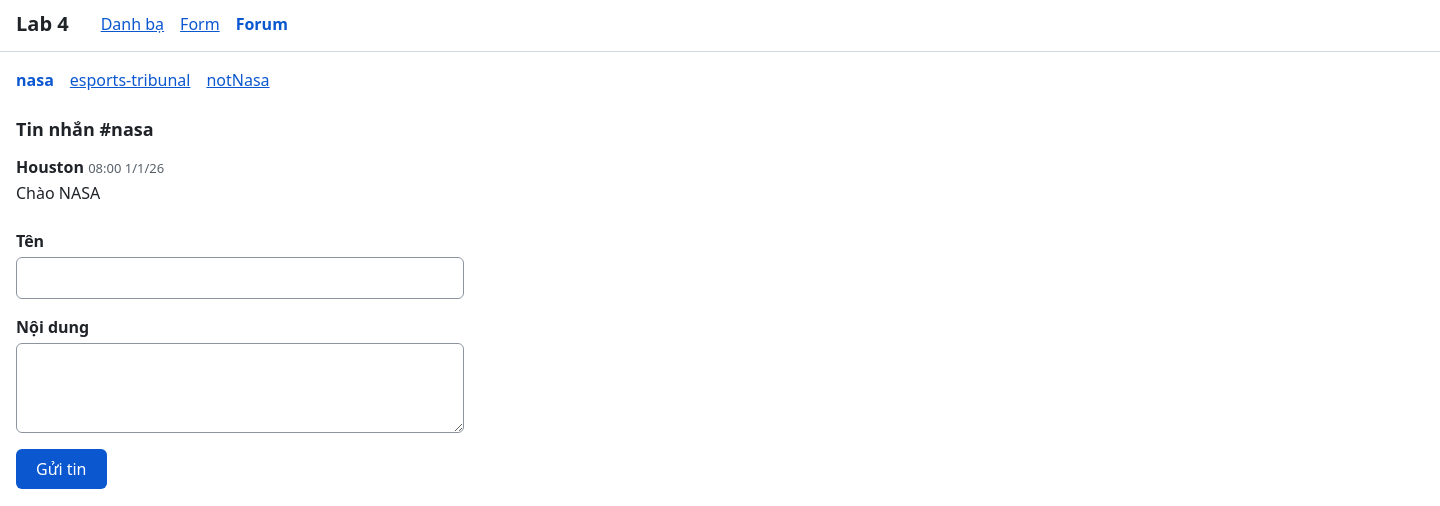
ForumPage › đổi kênh bằng NavLink → tải tin của kênh mới
Expected: the text "Chào NASA" is shown, [16,182,100,204]
Click the link "notNasa".
click(238, 80)  # box [206,68,270,92]
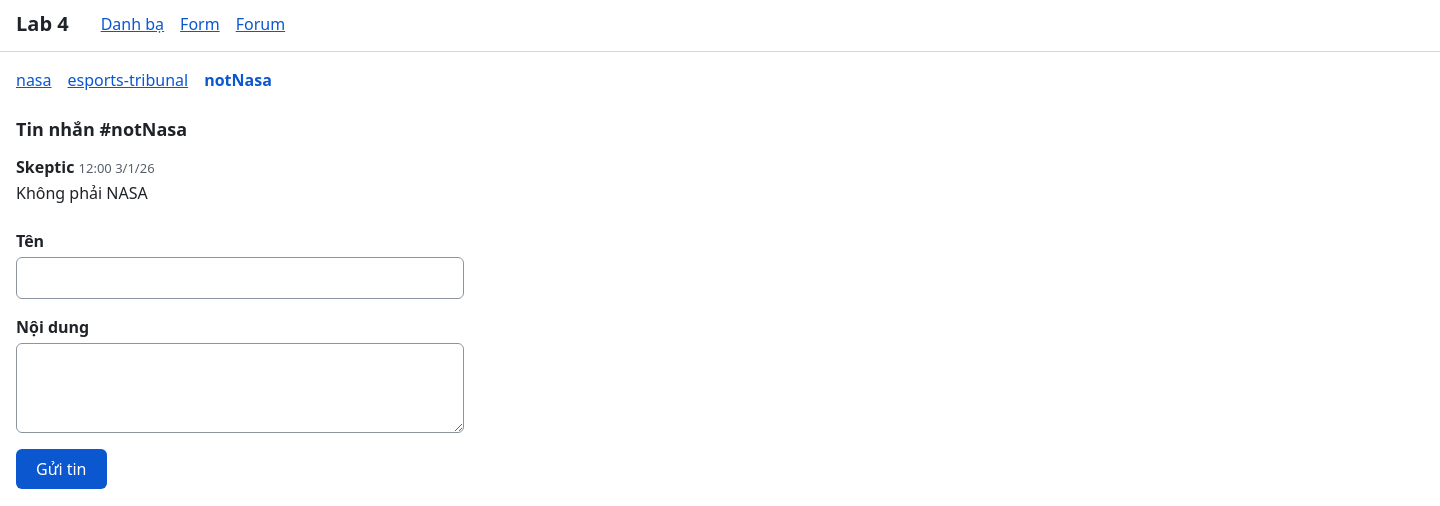
Now the text "Không phải NASA" is shown, box [16,182,148,204]
Now the text "Chào NASA" is gone
